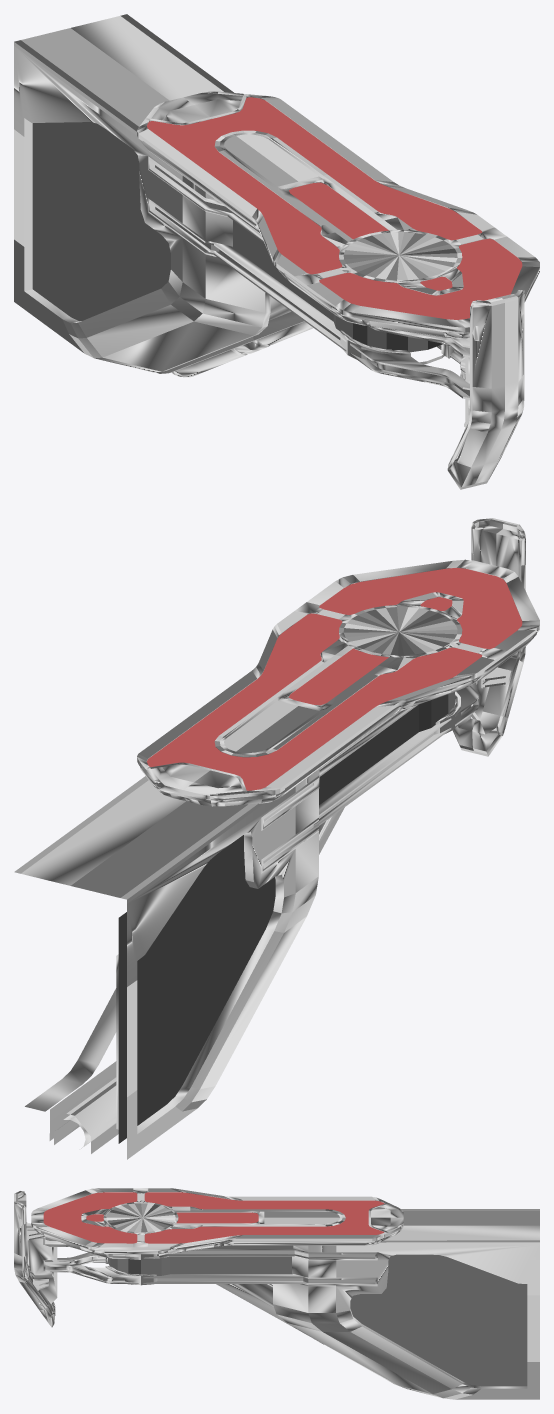
Rendered from ind_pylon_floor_a.glb.
3 views of the same model, one above another, from view 1: azimuth 30°, elevation 25°; view 2: azimuth 150°, elevation 25°; view 3: azimuth 270°, elevation 25° (orthographic). The views are drawn at different scales.
Size of the model in its own units: 7.04 by 10.45 by 26.44.
